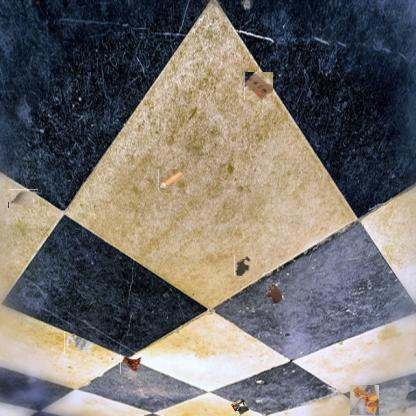dirty: (349, 386, 379, 416), (244, 72, 273, 100), (64, 331, 95, 355), (158, 168, 185, 190), (8, 189, 38, 208), (120, 354, 143, 374), (229, 396, 251, 416)
liquid: (264, 283, 284, 303), (234, 254, 251, 276)
